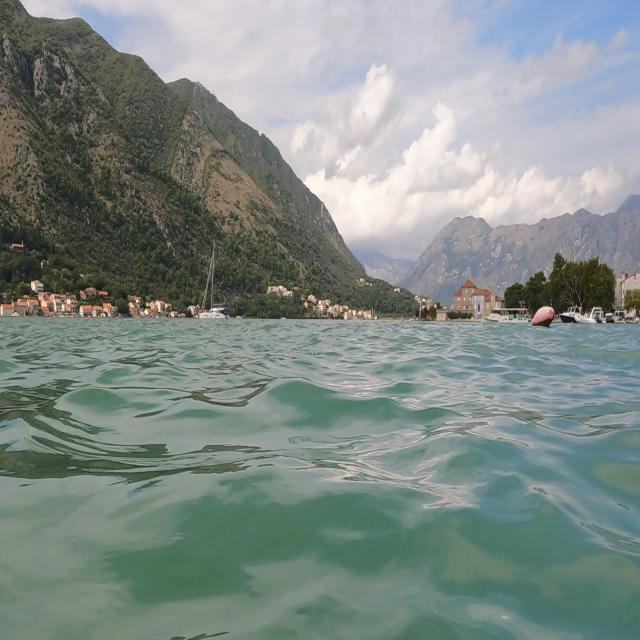boat: (196, 238, 232, 332), (564, 295, 620, 339)
buoy: (530, 296, 558, 340)
